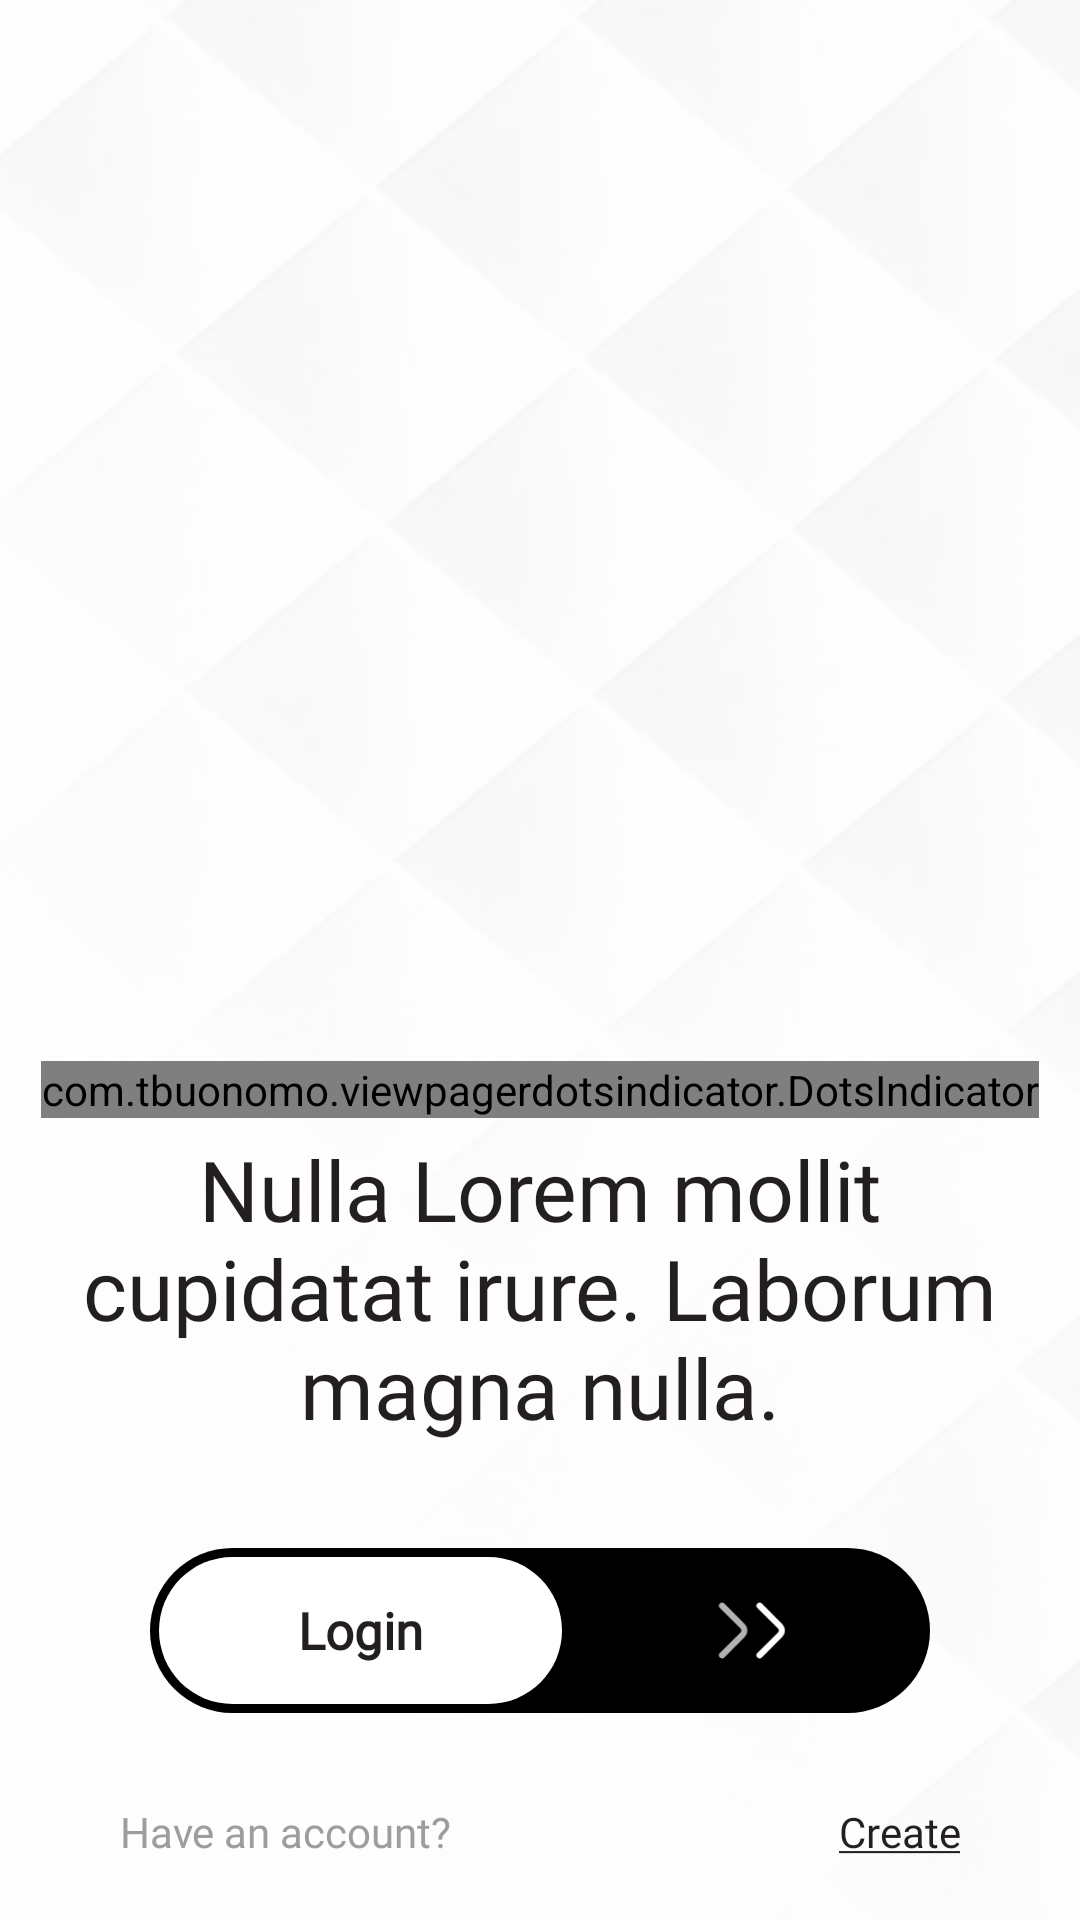

Icons on this 1080 × 1920 Android screen, each with the point to tap as point (x, y):
next: point (752, 1630)
